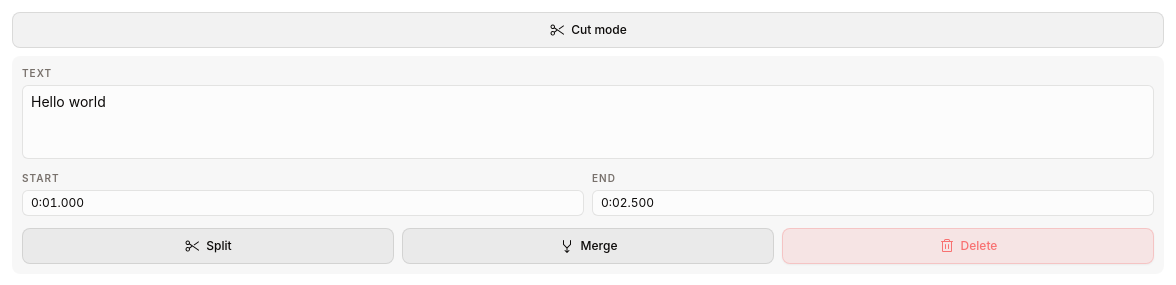
Scenario: CaptionListPanel › rejects invalid retimes and keeps the original values
This screenshot has width=1176, height=285.
Step 1. Replace the text in the field showing "0:02.500" with "0:00.500" → (873, 203), box [592,190,1154,216]
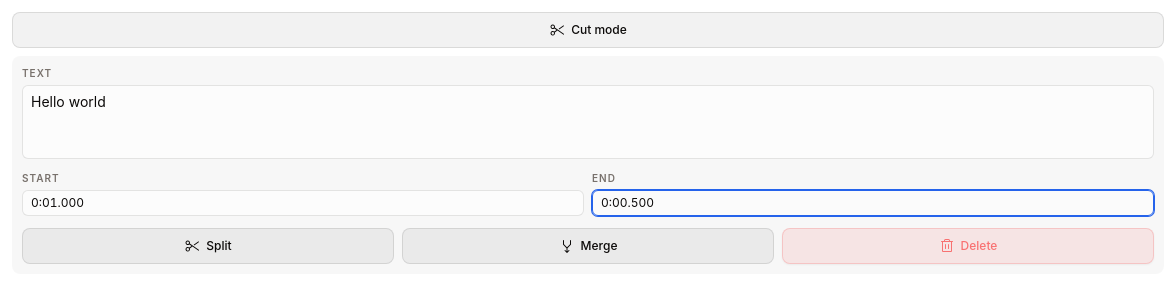
Step 2. Press Tab
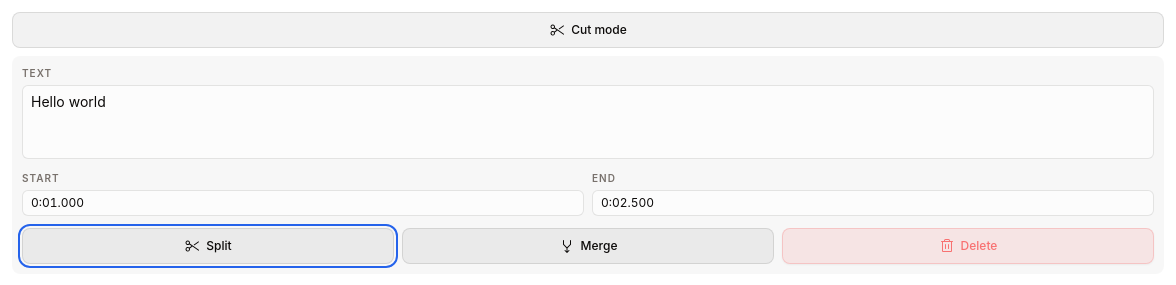
Expected: the field showing "0:02.500" is shown, [592,190,1154,216]
